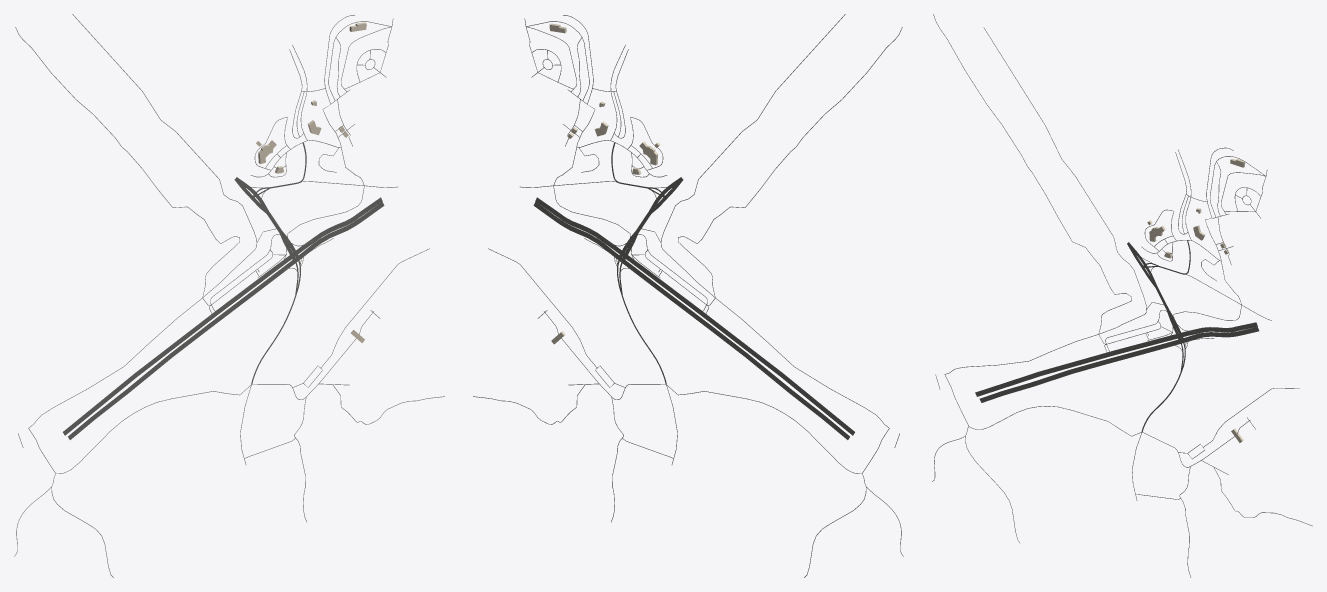
Rendered from historic-palestine-08_24_3497_3183.glb.
The picture shows the model from 3 angles, left to right: view 1: azimuth 30°, elevation 25°; view 2: azimuth 150°, elevation 25°; view 3: azimuth 330°, elevation 25°; orthographic projection. The views are drawn at different scales.
Visible parts, largest first — view 1: Road 3.003, Road 3; view 2: Road 3.003, Road 3; view 3: Road 3.003, Road 3.
Part boxes in pixels (<box>): Road 3.003: <box>63,254,292,435</box>; Road 3: <box>68,260,295,439</box>; Road 3.003: <box>626,254,854,435</box>; Road 3: <box>622,260,849,439</box>; Road 3.003: <box>975,334,1178,396</box>; Road 3: <box>979,339,1181,402</box>.
Size of the model in its own units: 1079 by 1377 by 8.7.
